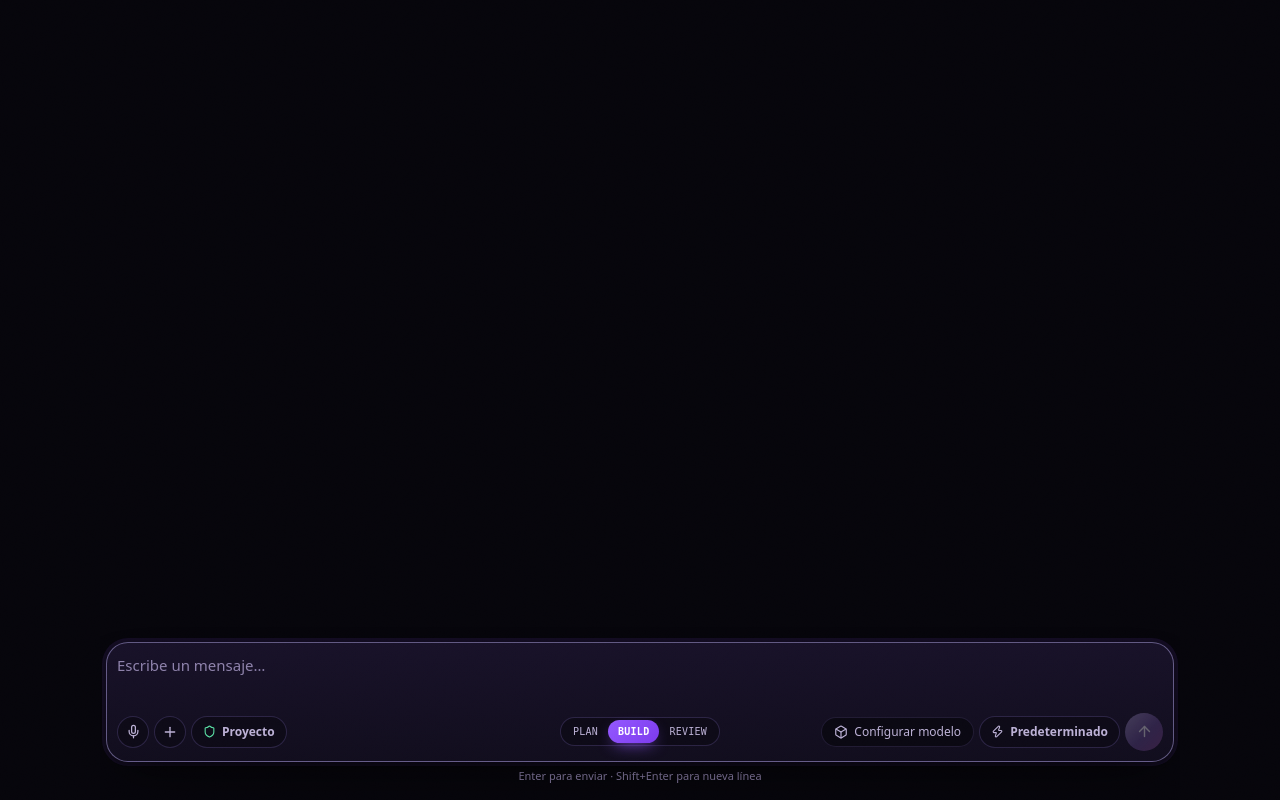
Test: a refused send leaves the reader where they were
The width and height of the screenshot is (1280, 800).
In the text box labelled "Escribe un mensaje…": (640, 678) [117,652,1163,704], type "no llega"
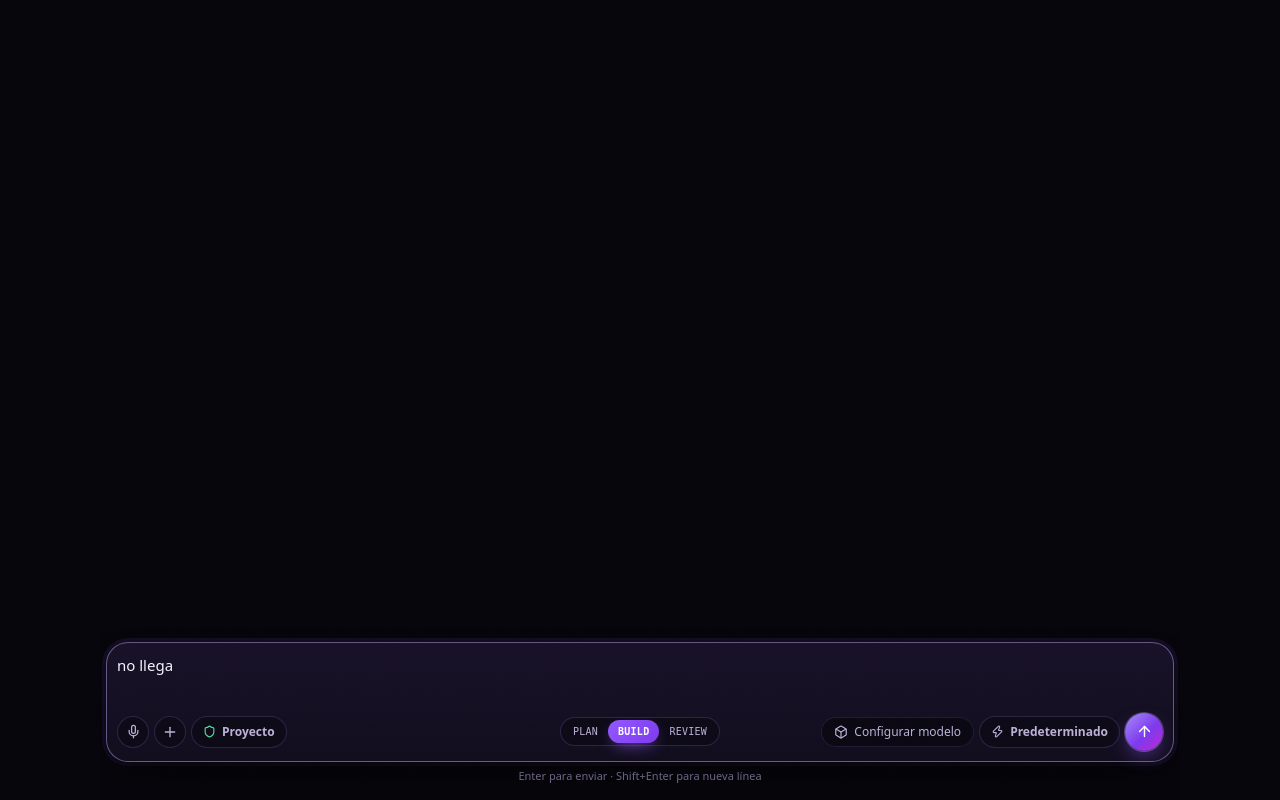
Press Enter in the text box named "mensaje", box [117,652,1163,704]
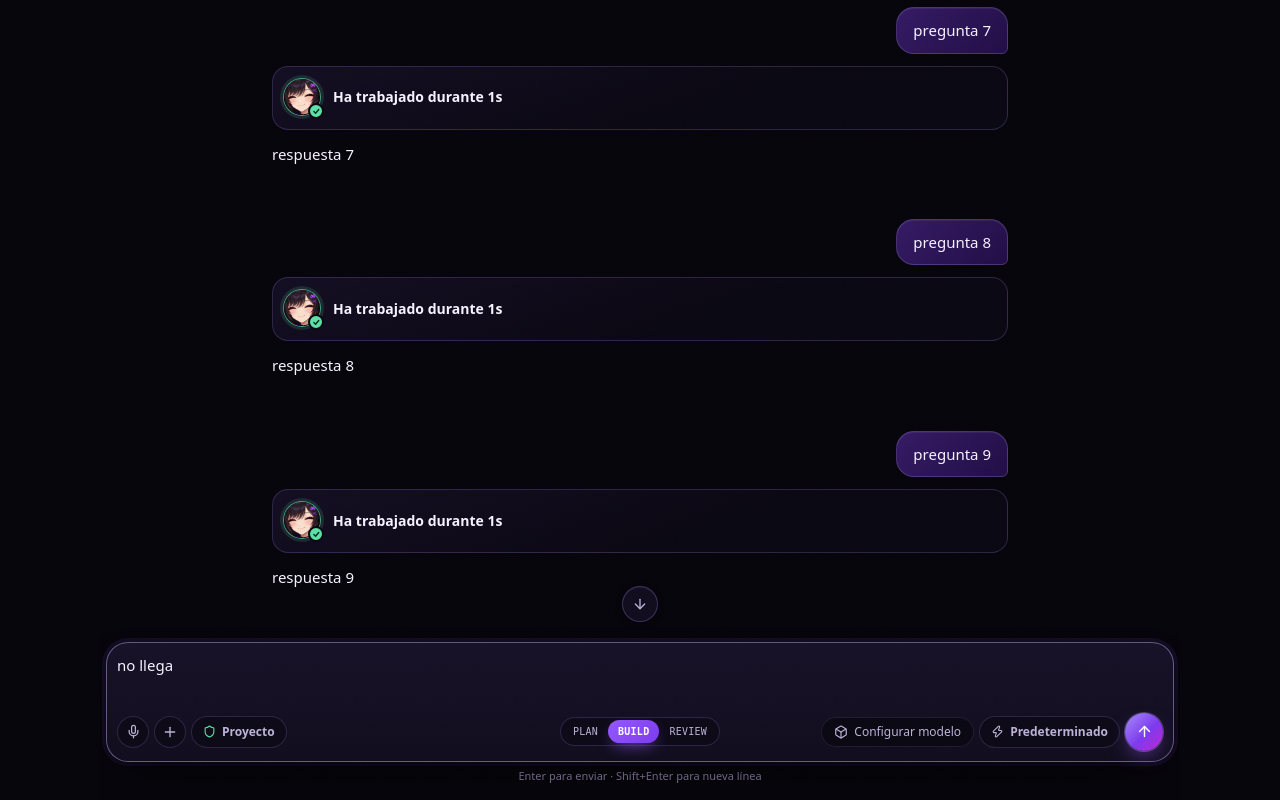
Expected: the button named "Ir al final" is shown, [622,586,658,622]
